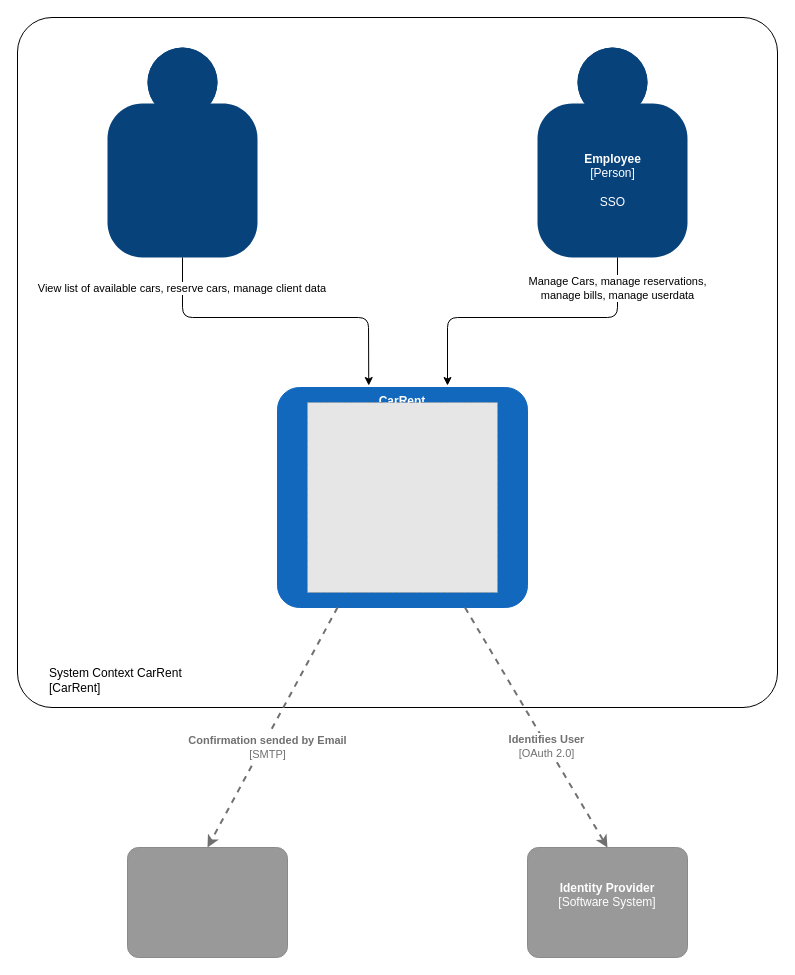
This 795x975 diagram has some shape labels left out. Grey dashed boxes stand in for pictures. Each missing label, with the box of its shape:
Customer [Person] SSO: (107, 47, 257, 257)
Email System [Software System]: (126, 846, 288, 958)
